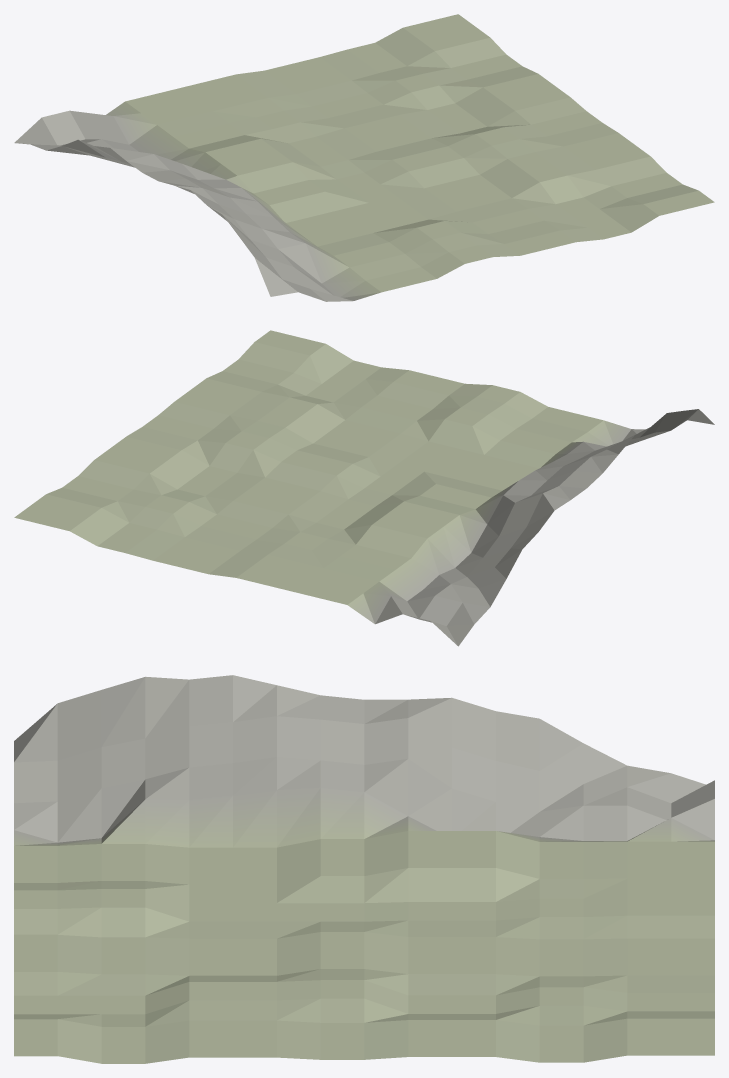
The picture shows the model from 3 angles, top to bottom: view 1: azimuth 30°, elevation 25°; view 2: azimuth 150°, elevation 25°; view 3: azimuth 270°, elevation 25°; orthographic projection. The views are drawn at different scales.
Bounding box in the file's own units: 32 × 5.67 × 32.
